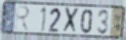0: (80, 9, 94, 35)
1: (39, 7, 47, 33)
2: (47, 6, 63, 34)
3: (97, 8, 111, 36)
R: (14, 4, 31, 32)
X: (61, 7, 80, 35)
